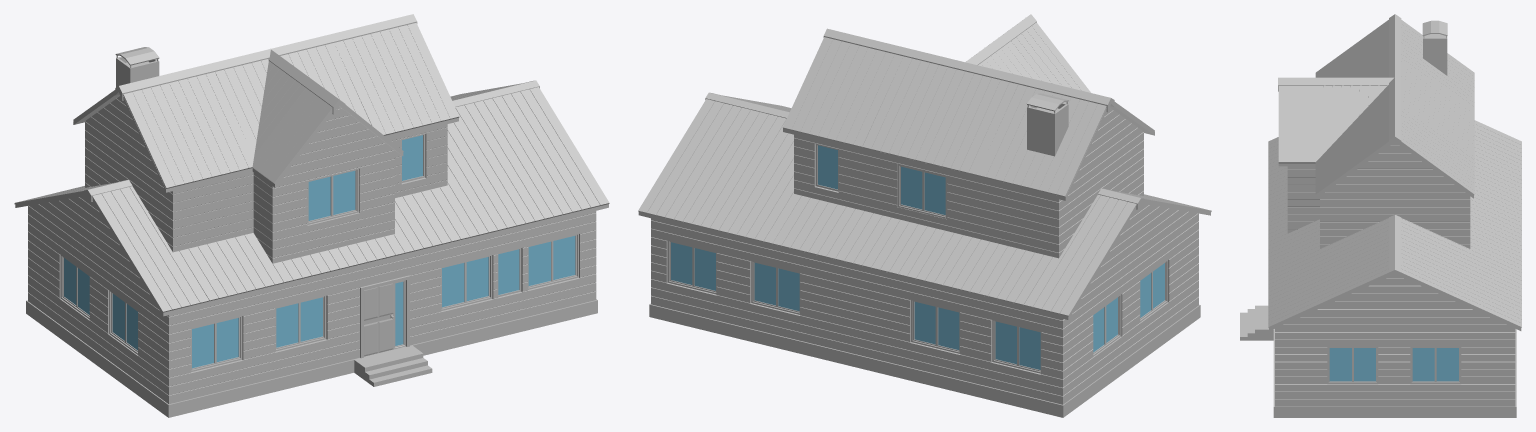
The model's file is House_012.gltf.
The picture shows the model from 3 angles, left to right: view 1: azimuth 30°, elevation 25°; view 2: azimuth 150°, elevation 25°; view 3: azimuth 270°, elevation 25°; orthographic projection. The views are drawn at different scales.
Visible parts, largest first — view 1: Hous_012; view 2: Hous_012; view 3: Hous_012.
Boxes of the visible parts, x1,y1,x2,y2 form: Hous_012: (14,14,609,417); Hous_012: (638,14,1211,417); Hous_012: (1240,14,1521,417).
Bounding box in the file's own units: 14.69 × 8.77 × 9.38.
